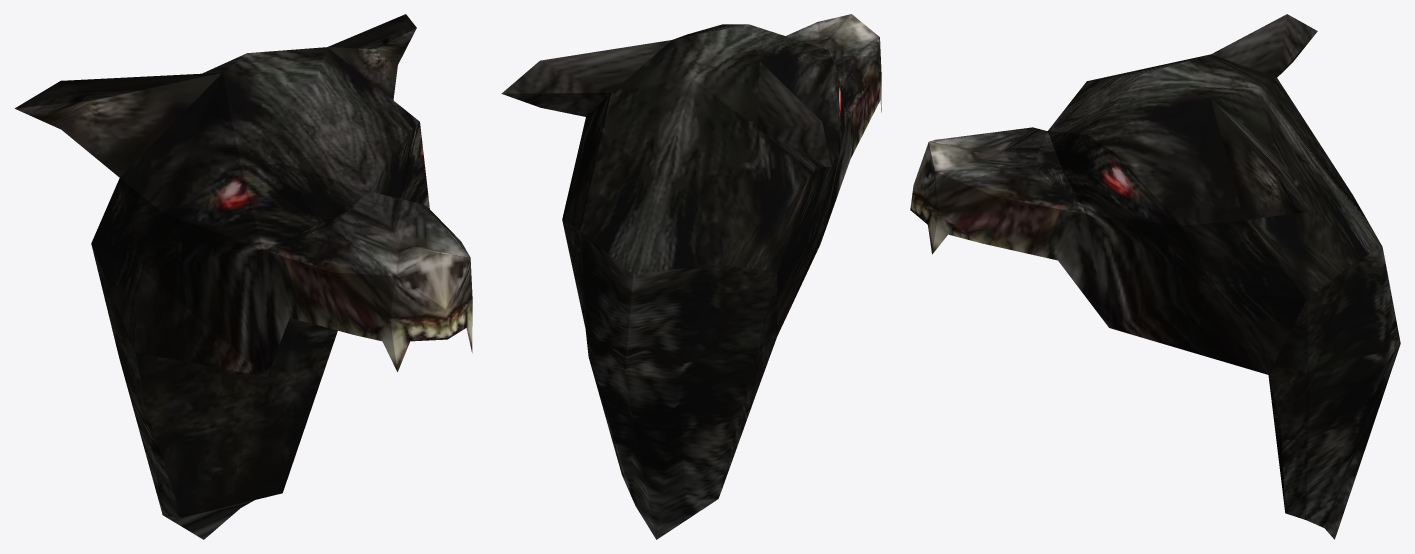
Rendered from HELMWILK.glb.
3 renders of one model, left to right at view 1: azimuth 30°, elevation 25°; view 2: azimuth 150°, elevation 25°; view 3: azimuth 270°, elevation 25°, orthographic. The views are drawn at different scales.
Parts seen in each view (by area): view 1: HELMWILK; view 2: HELMWILK; view 3: HELMWILK.
Part boxes in pixels (<box>): HELMWILK: <box>15,14,472,539</box>; HELMWILK: <box>501,14,881,539</box>; HELMWILK: <box>910,14,1400,539</box>.
Bounding box in the file's own units: 0.4245 × 0.5447 × 0.5198.
1 material, 1 textured.
